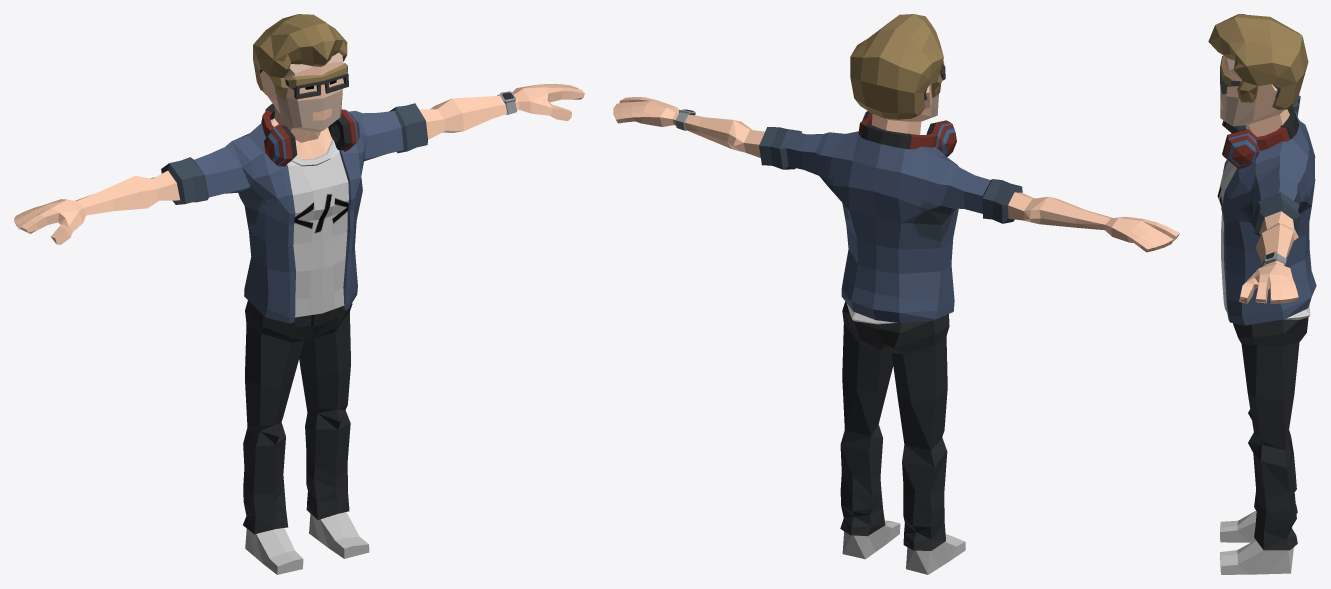
Rendered from Developer.glb.
3 views of the same model, side by side, from view 1: azimuth 30°, elevation 25°; view 2: azimuth 150°, elevation 25°; view 3: azimuth 270°, elevation 25° (orthographic).
Parts seen in each view (by area): view 1: SK_Chr_Developer_Male_01; view 2: SK_Chr_Developer_Male_01; view 3: SK_Chr_Developer_Male_01.
Boxes of the visible parts, box(x1,y1,x2,y2) form: SK_Chr_Developer_Male_01: box(14, 14, 584, 574); SK_Chr_Developer_Male_01: box(613, 14, 1179, 574); SK_Chr_Developer_Male_01: box(1208, 14, 1316, 574).
Bounding box in the file's own units: 2.05 × 1.86 × 0.3418.
Materials: 1 (1 with a texture image).
